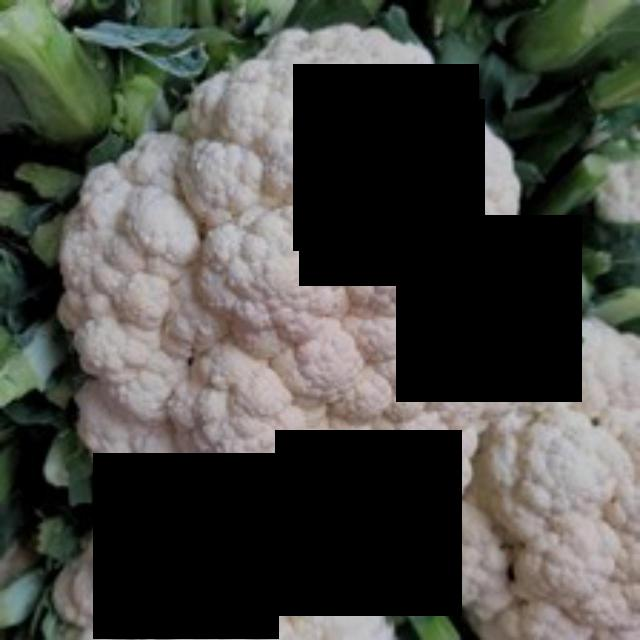cauliflower: (64, 21, 576, 592)
